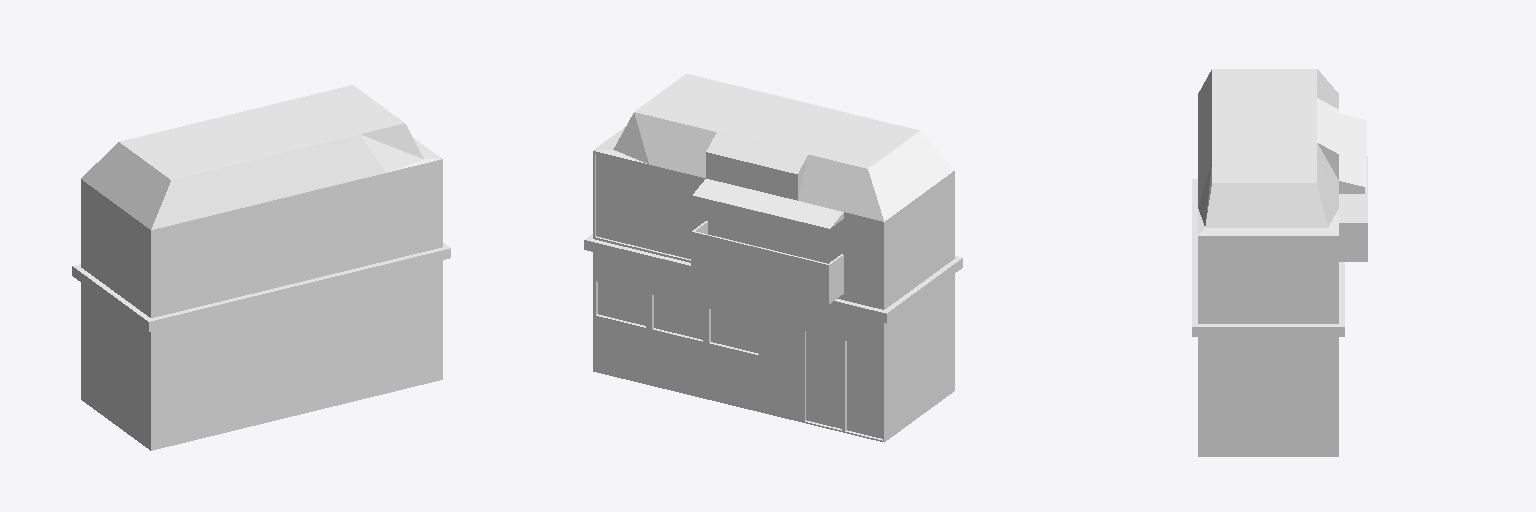
The picture shows the model from 3 angles: view 1: azimuth 30°, elevation 25°; view 2: azimuth 150°, elevation 25°; view 3: azimuth 270°, elevation 25°; orthographic projection.
Parts seen in each view (by area): view 1: Cube3_copy16; view 2: Cube3_copy16; view 3: Cube3_copy16.
Part boxes in pixels (x1,y1,x2,y2): Cube3_copy16: (72,85,450,450); Cube3_copy16: (584,74,962,442); Cube3_copy16: (1192,69,1367,456).
Size of the model in its own units: 679 by 556 by 342.